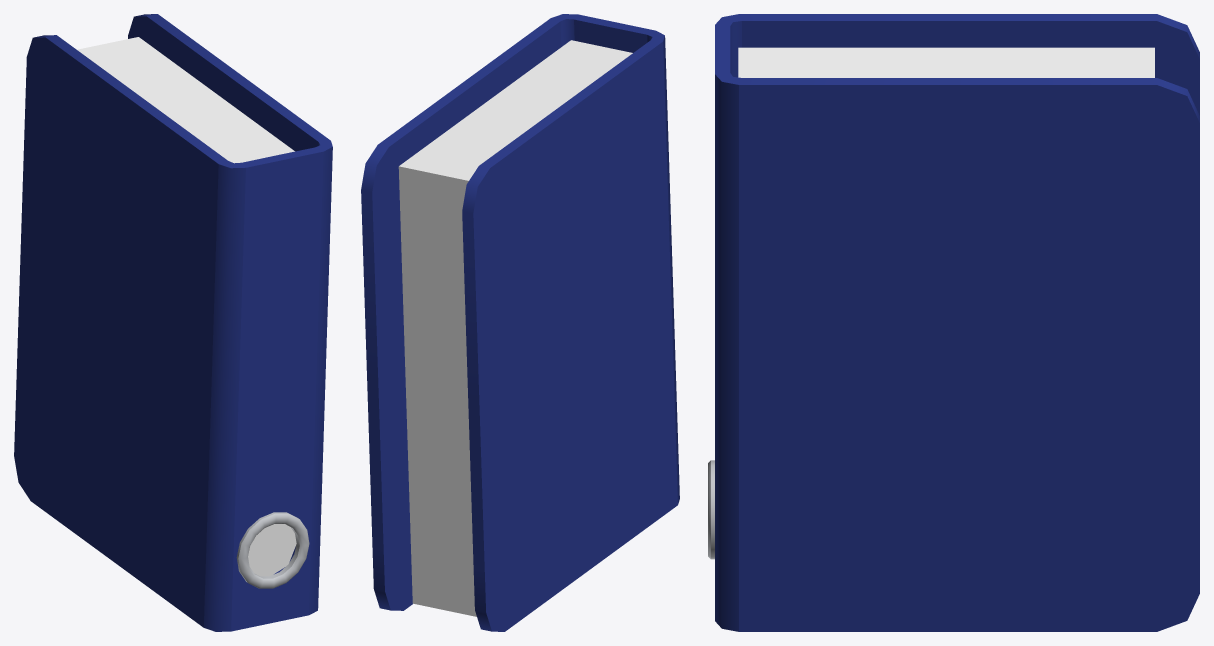
The model's file is Folder_10.fbx.
The picture shows the model from 3 angles, left to right: view 1: azimuth 30°, elevation 25°; view 2: azimuth 150°, elevation 25°; view 3: azimuth 270°, elevation 25°; orthographic projection. The views are drawn at different scales.
Visible parts, largest first — view 1: Folder_10; view 2: Folder_10; view 3: Folder_10.
Boxes of the visible parts, x1,y1,x2,y2 form: Folder_10: [14, 14, 332, 631]; Folder_10: [361, 14, 679, 631]; Folder_10: [708, 14, 1199, 631].
Bounding box in the file's own units: 0.1136 × 0.3964 × 0.3152.
